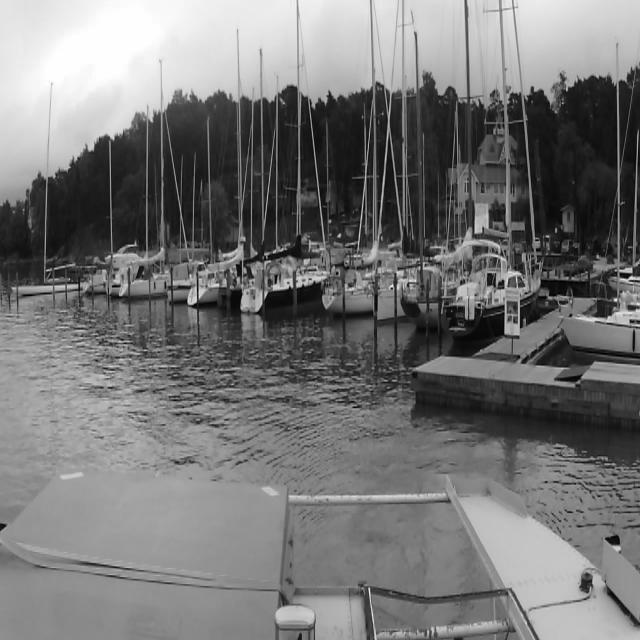ship: (442, 0, 544, 342), (557, 36, 640, 361), (323, 0, 398, 319), (241, 1, 317, 315), (165, 27, 239, 305), (11, 79, 82, 293), (401, 33, 439, 332), (119, 56, 165, 300), (86, 130, 116, 298)
